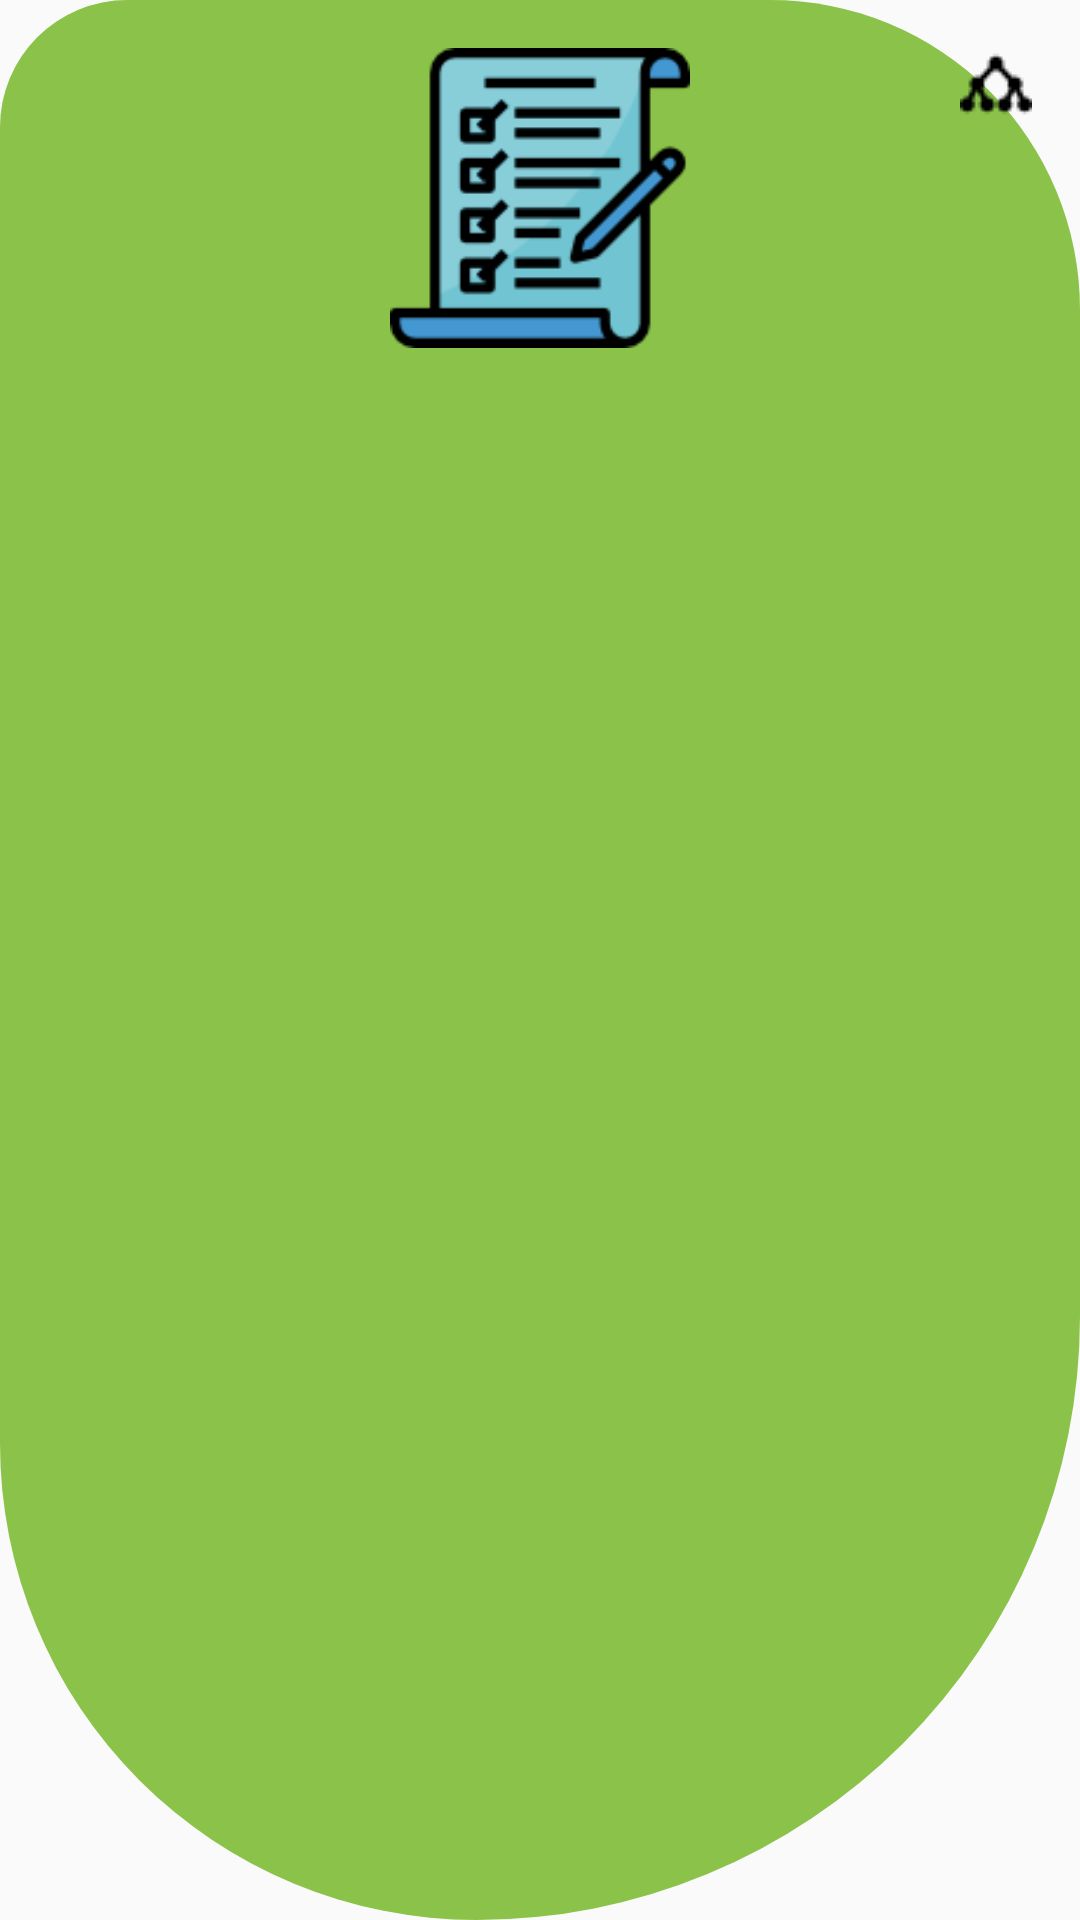

Locate icon controls on the screen. Image size 1080 × 1920, boxes as (x1, y1, x2, y2).
list: (390, 48, 690, 348)
